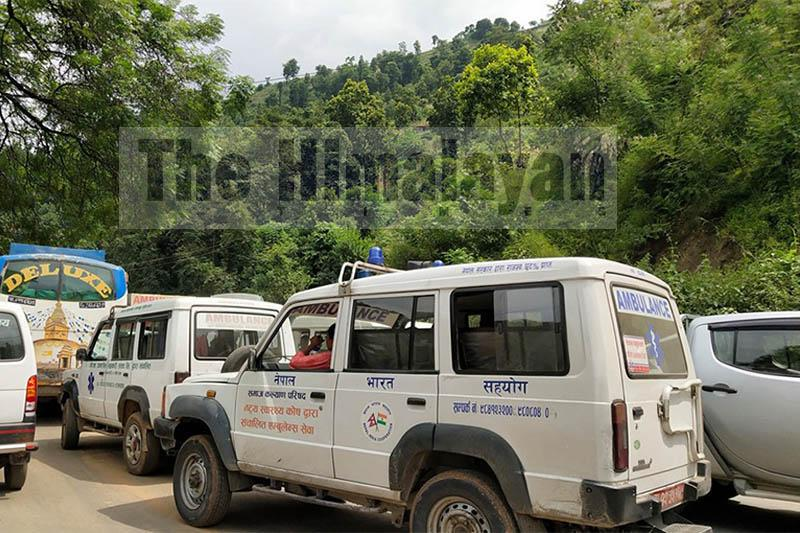ambulance: (152, 231, 716, 533), (58, 294, 302, 478)
